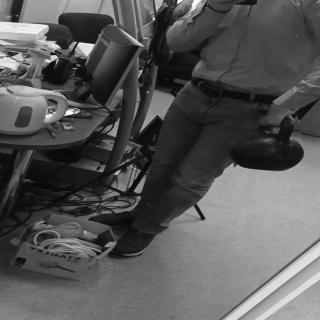kettlebell: (227, 116, 307, 175)
